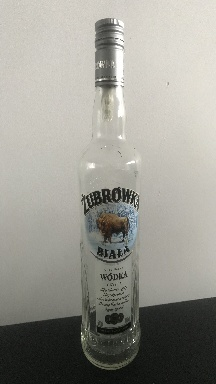butelka: (77, 15, 142, 373)
